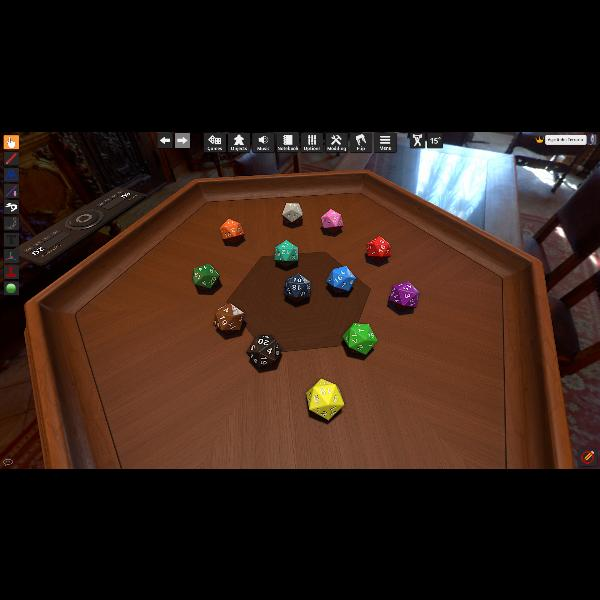d20: (306, 378, 344, 420), (246, 334, 282, 368), (343, 322, 376, 354), (214, 303, 244, 333), (388, 280, 416, 309), (326, 266, 354, 294), (284, 273, 310, 301), (193, 262, 218, 288), (275, 240, 299, 264), (366, 236, 390, 260), (220, 219, 244, 242), (322, 208, 344, 231), (282, 202, 304, 222)
